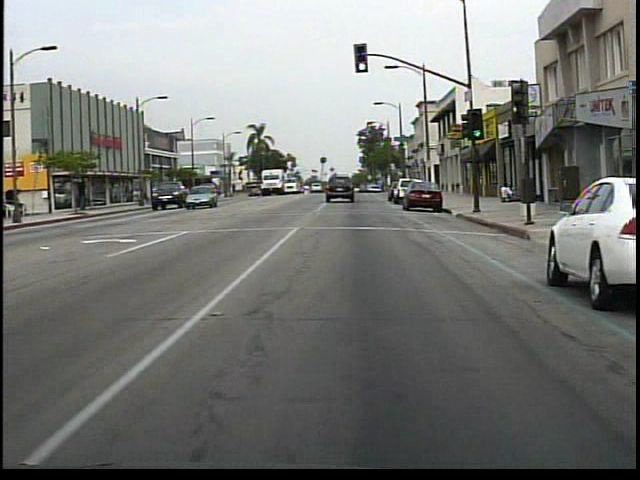person: (494, 179, 511, 204)
